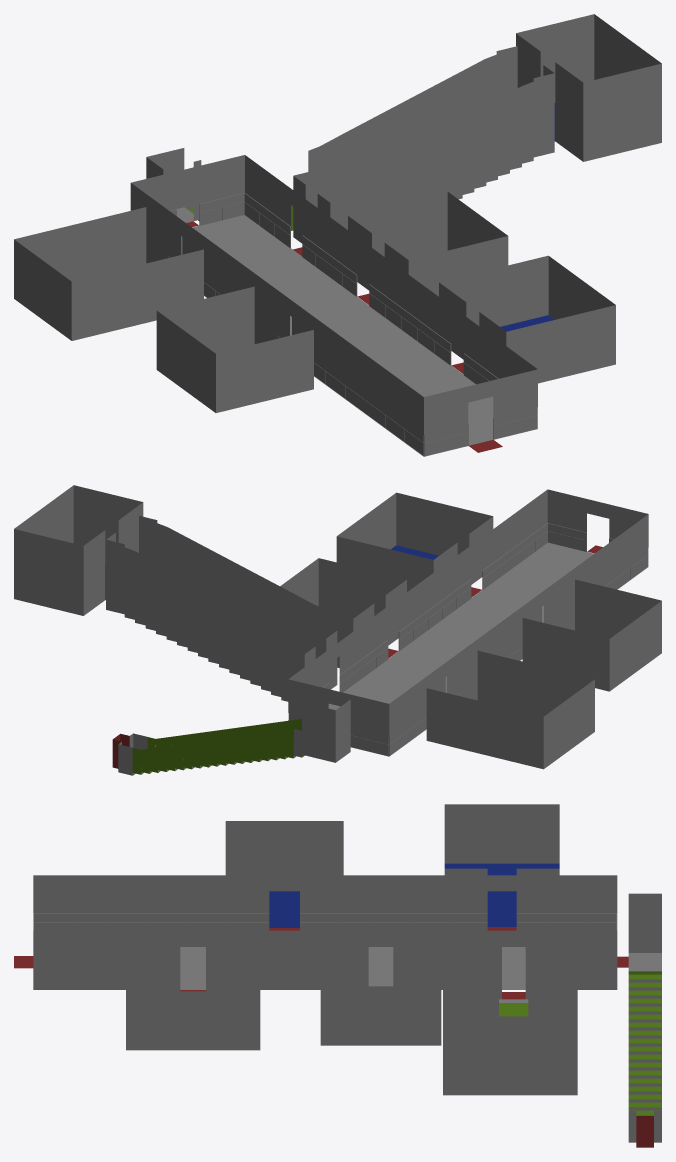
Rendered from home.FBX.
3 renders of one model, top to bottom at view 1: azimuth 30°, elevation 25°; view 2: azimuth 150°, elevation 25°; view 3: azimuth 270°, elevation 25°, orthographic. The views are drawn at different scales.
Visible parts, largest first — view 1: high; view 2: high; view 3: high.
Part boxes in pixels (x1,y1,x2,y2): high: [14, 14, 661, 456]; high: [14, 485, 661, 775]; high: [14, 804, 661, 1147].
Bounding box in the file's own units: 73.5 × 24.41 × 70.24.
